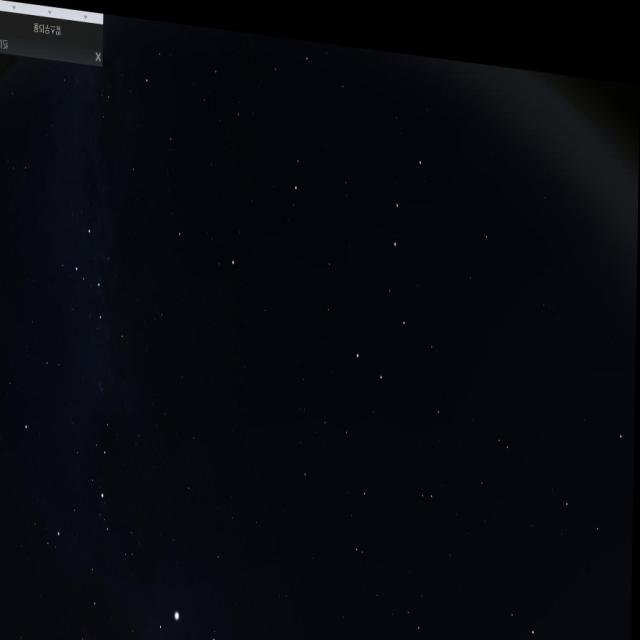cassiopeia: (70, 213, 136, 358)
ursa_major: (349, 118, 431, 384)
